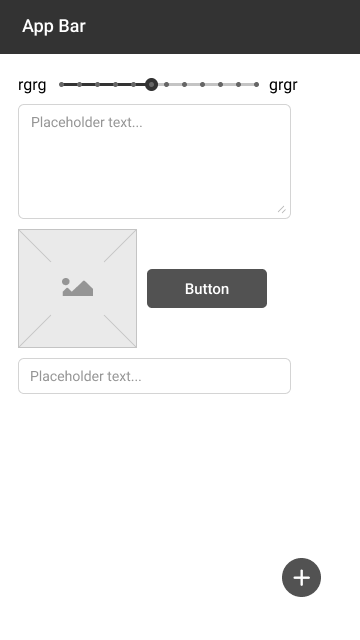button: (145, 267, 270, 310)
editText: (15, 101, 295, 223), (16, 356, 293, 396)
floatingButton: (280, 557, 322, 598)
imageView: (16, 227, 141, 350)
slider: (56, 75, 263, 92)
textView: (14, 78, 50, 95), (267, 78, 299, 95)
toolbar: (1, 1, 359, 54)
